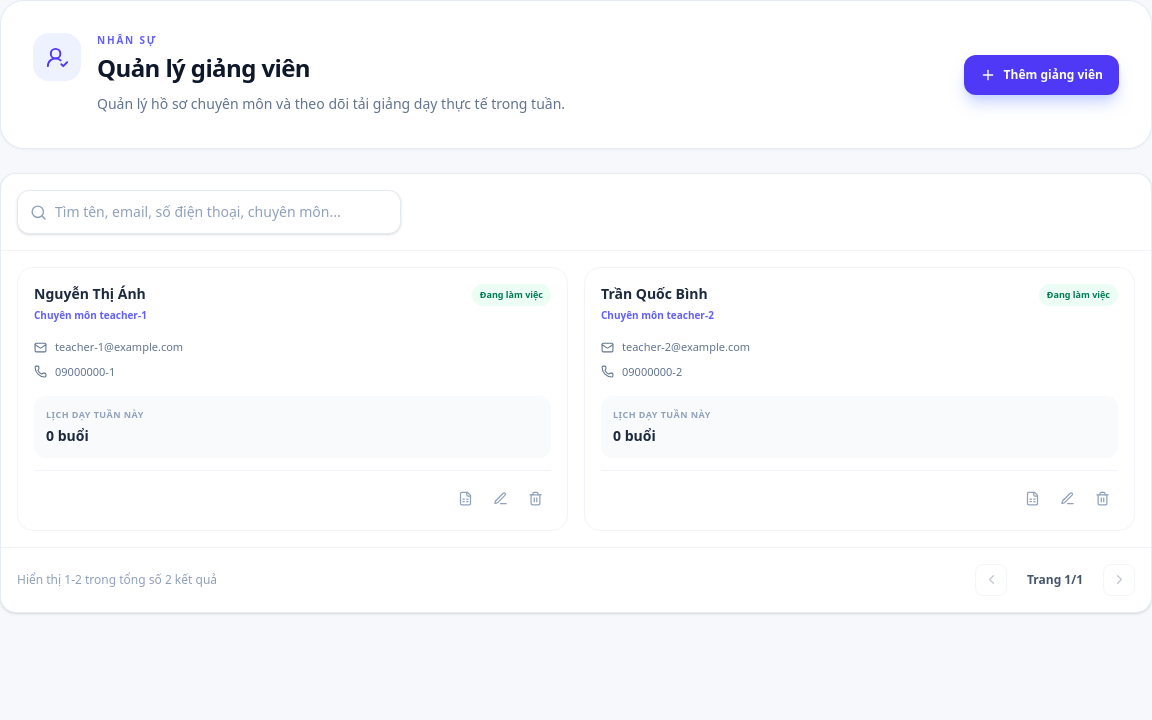
Test: StaffPage › tìm kiếm tiếng Việt ngay khi gõ, không phân biệt hoa thường
This screenshot has width=1152, height=720.
Step 1. Type "nGUYỄN THỊ áNH" into the search field with placeholder "Tìm tên, email, số điện thoại, chuyên môn..." → (222, 212), box [55,202,388,222]
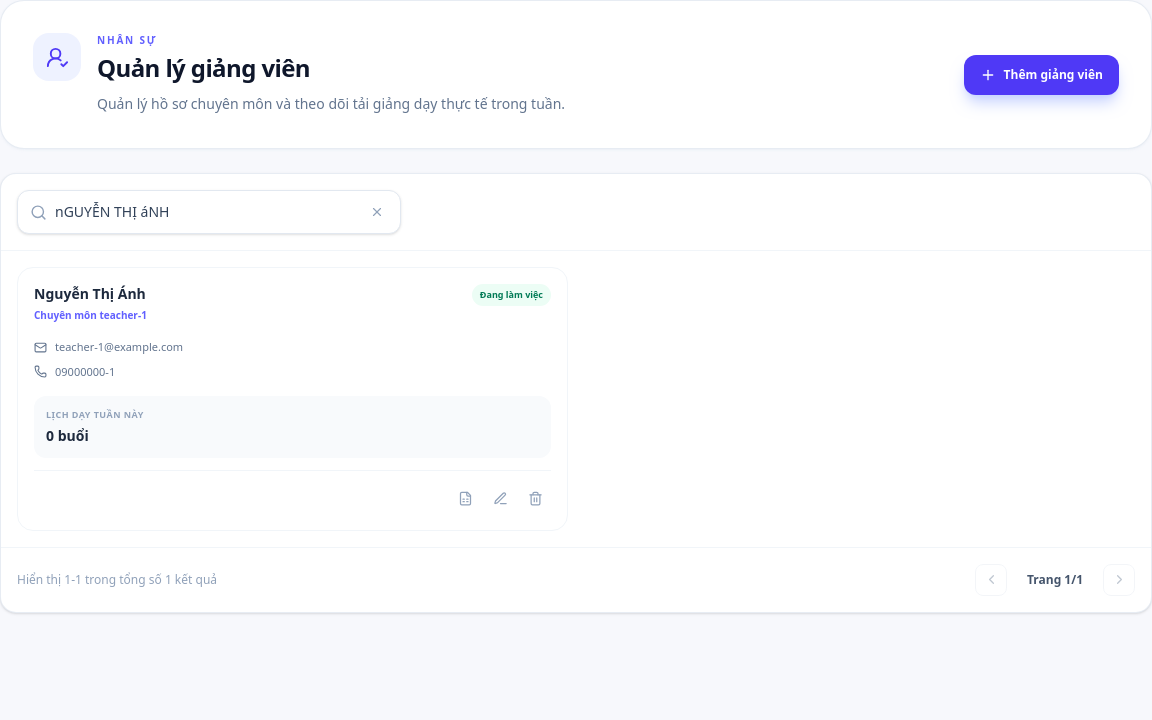
Check: the text "Nguyễn Thị Ánh" is shown, box [34,284,147,304]
Check: the text "Trần Quốc Bình" is gone
Check: the text "Hiển thị 1-1 trong tổng số 1 kết quả" is shown, box [17,572,217,588]
